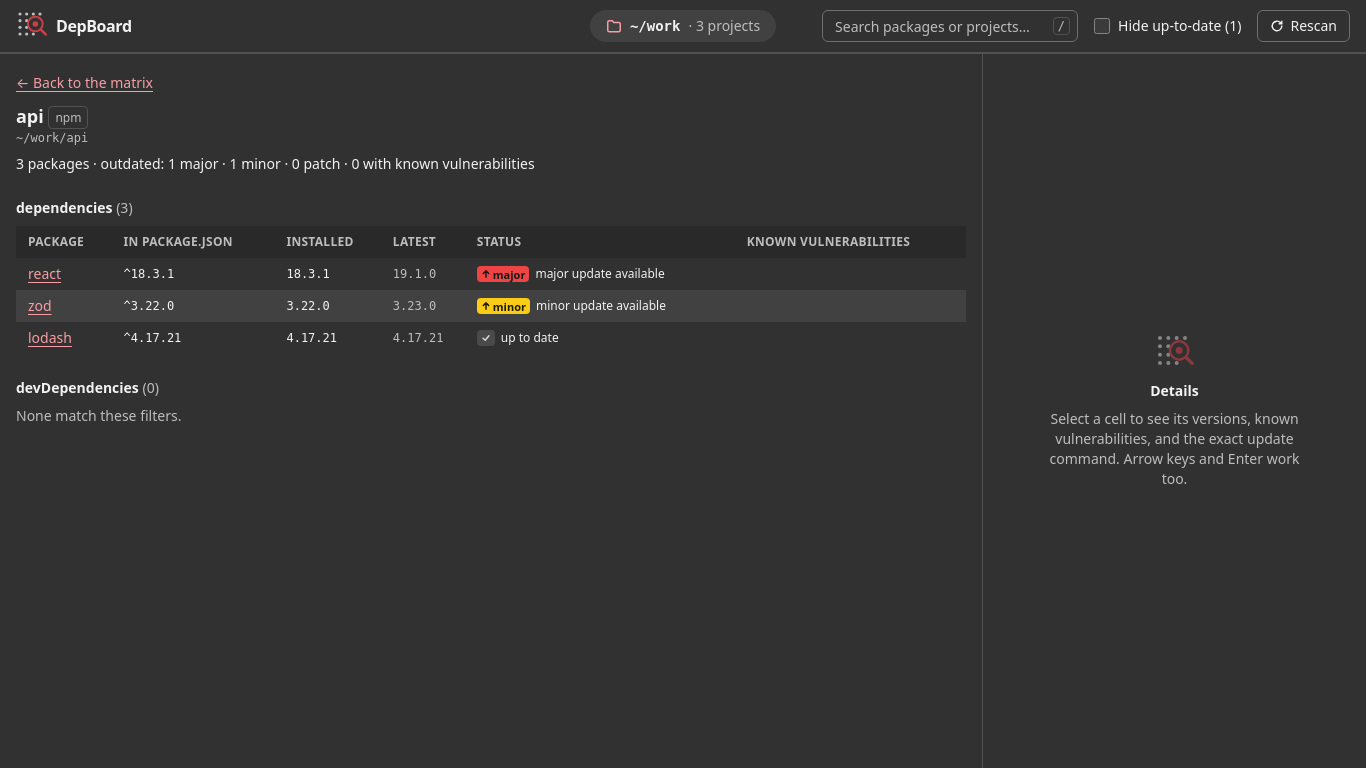
it: the project screen › opens the same drawer as the matrix, and returns focus to the row
The width and height of the screenshot is (1366, 768).
Click the button with aria-label "Details for zod".
click(40, 306)  # box [28,296,52,316]
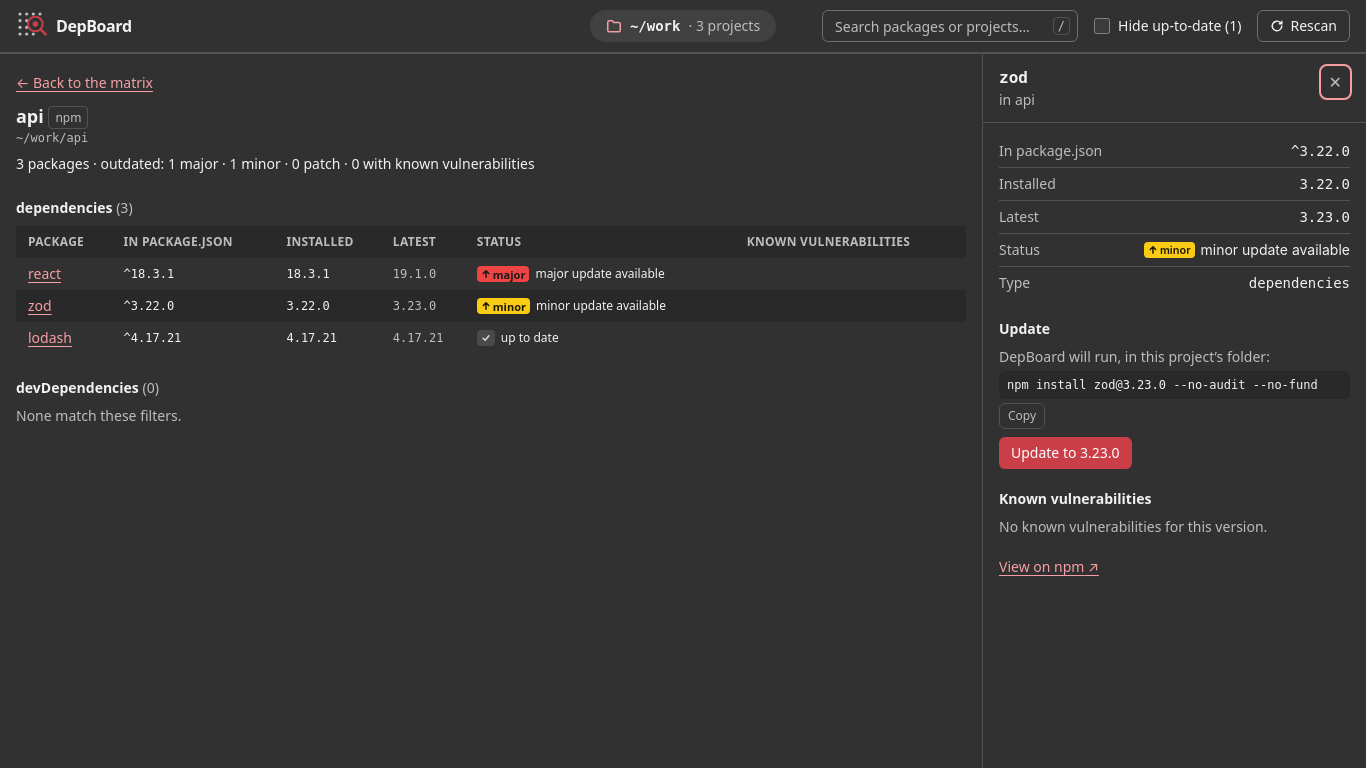
Expected: the text "in api" is shown, [999,90,1035,110]
Expected: the button "Update to 3.23.0" is shown, [999,437,1132,469]
Press Escape
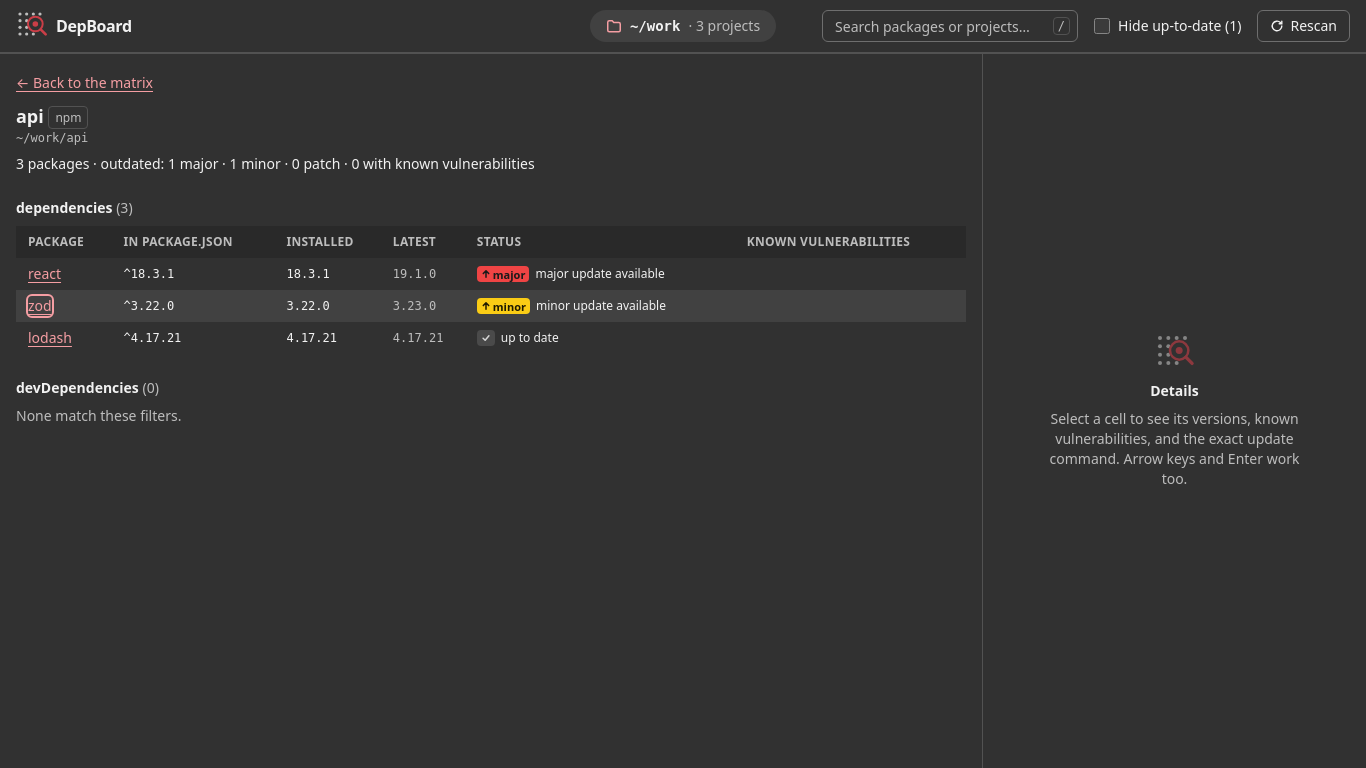
Expected: the dialog is gone
